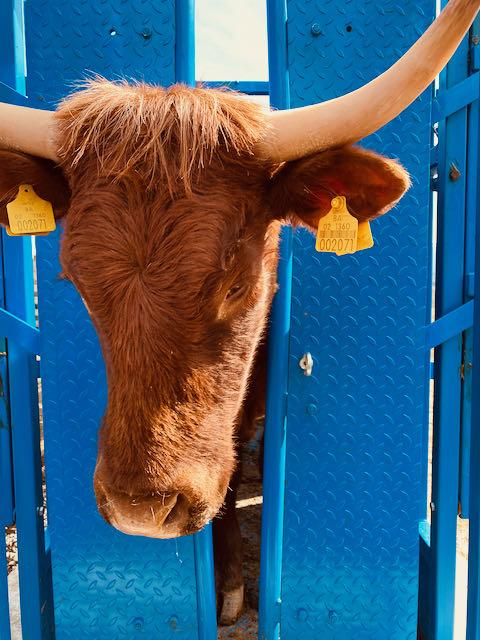muzzles: (84, 471, 216, 546)
